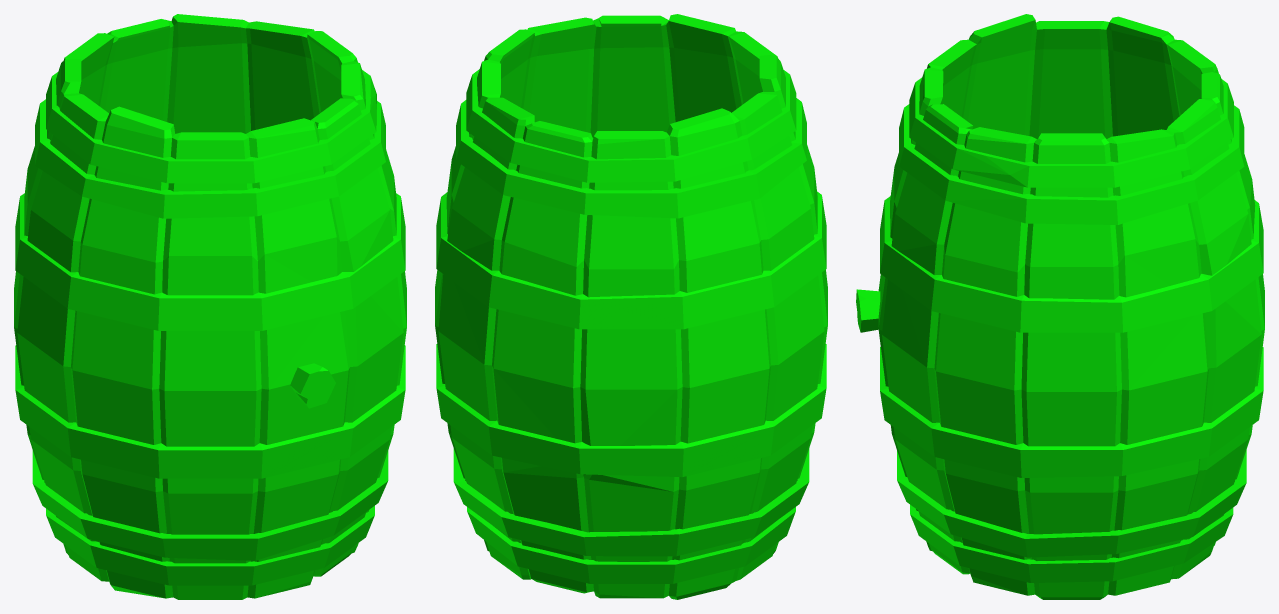
The model's file is SM_Barrel_Wood_B_Opened_Fantasy.fbx.
3 views of the same model, side by side, from view 1: azimuth 30°, elevation 25°; view 2: azimuth 150°, elevation 25°; view 3: azimuth 270°, elevation 25° (orthographic).
Visible parts, largest first — view 1: barrel-wood-b-opened-fantasy; view 2: barrel-wood-b-opened-fantasy; view 3: barrel-wood-b-opened-fantasy.
Boxes of the visible parts, <box> form: barrel-wood-b-opened-fantasy: <box>14,14,406,599</box>; barrel-wood-b-opened-fantasy: <box>435,14,827,599</box>; barrel-wood-b-opened-fantasy: <box>856,14,1264,599</box>.
Size of the model in its own units: 0.9461 by 1.27 by 1.
